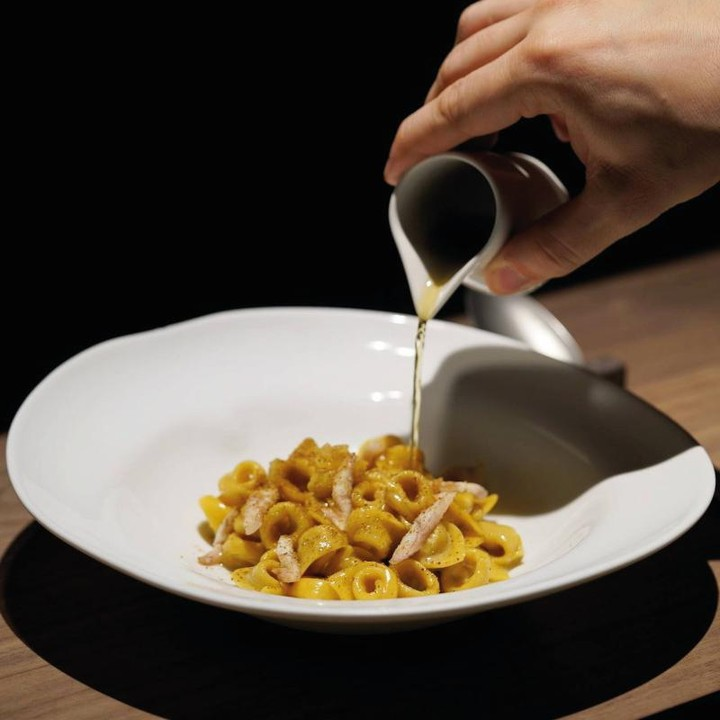hand: (394, 0, 716, 273)
